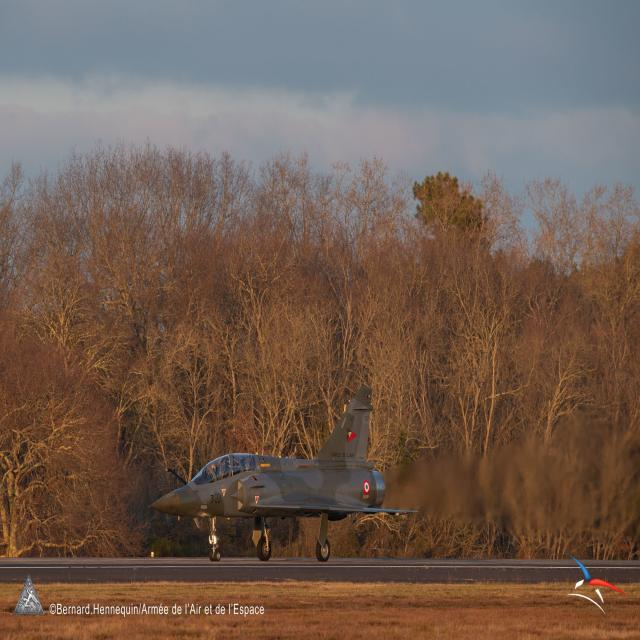MIL_Plane: (148, 385, 419, 562)
